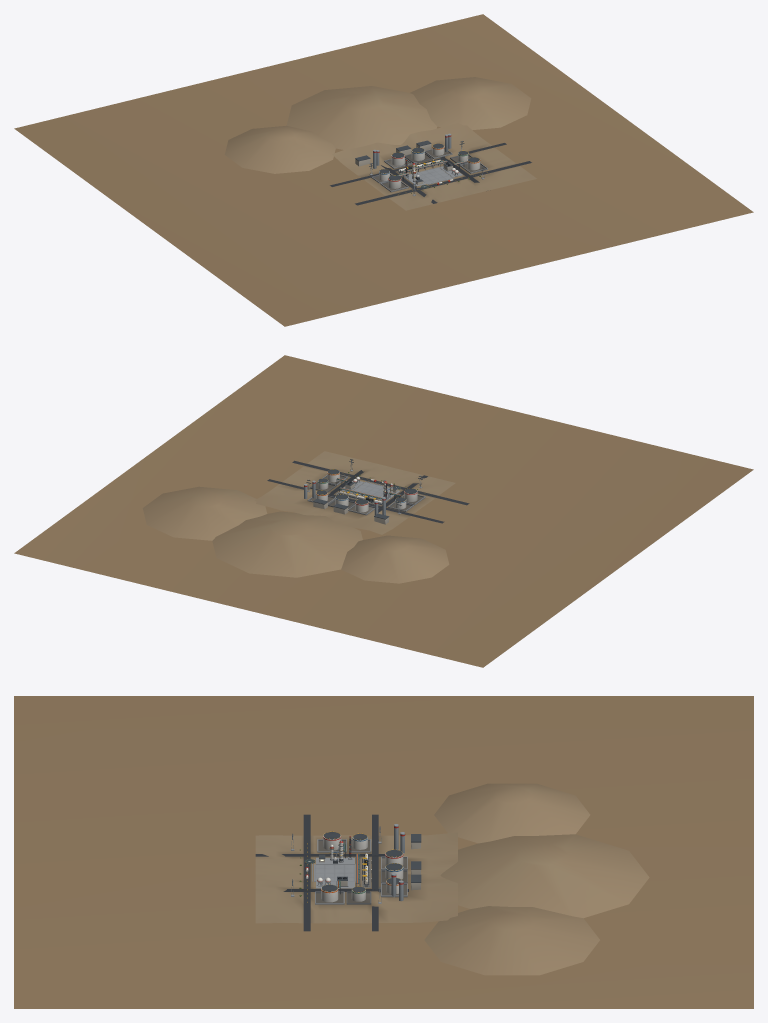
3 views of the same model, one above another, from view 1: azimuth 30°, elevation 25°; view 2: azimuth 150°, elevation 25°; view 3: azimuth 270°, elevation 25° (orthographic). The views are drawn at different scales.
Visible parts, largest first — view 1: onshore_terrain, platform_base; view 2: onshore_terrain, platform_base; view 3: onshore_terrain, platform_base.
Part boxes in pixels (box(x1,y1,x2,y2)): onshore_terrain: box(14, 14, 753, 326); platform_base: box(330, 123, 536, 210); onshore_terrain: box(14, 355, 753, 667); platform_base: box(254, 451, 469, 534); onshore_terrain: box(14, 696, 753, 1008); platform_base: box(255, 814, 457, 931).
Bounding box in the file's own units: 150 × 5.5 × 150.
